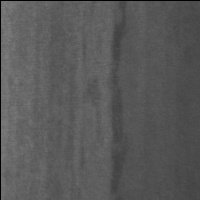inclusion: (85, 3, 132, 199)
